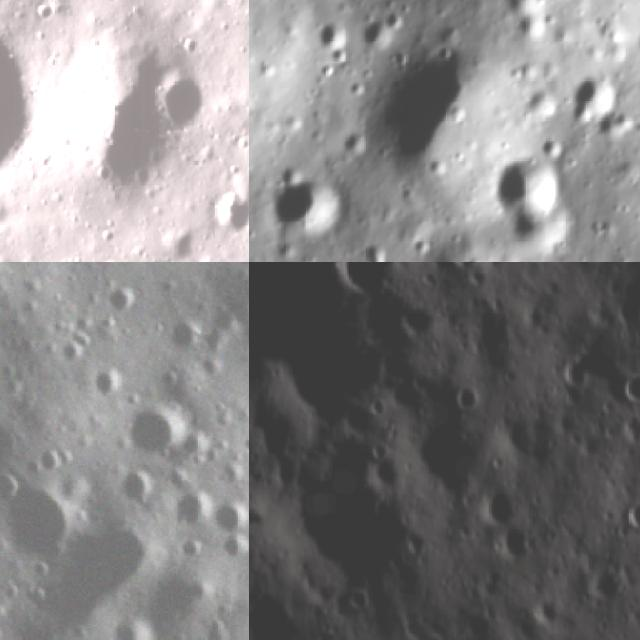crater: (277, 427, 408, 608), (32, 514, 171, 640), (360, 48, 496, 170), (86, 41, 178, 196), (0, 11, 51, 222), (0, 465, 83, 567), (489, 143, 570, 215), (271, 173, 351, 244), (118, 396, 194, 464), (151, 65, 215, 131), (511, 200, 582, 257), (568, 66, 620, 126), (550, 343, 604, 396), (485, 471, 532, 531), (323, 262, 402, 295), (395, 290, 442, 345), (174, 422, 221, 470), (443, 372, 492, 418), (366, 447, 408, 499), (499, 0, 550, 42), (84, 360, 132, 404), (99, 278, 144, 324), (355, 8, 399, 55), (164, 316, 211, 359), (215, 184, 249, 243), (30, 442, 79, 482), (50, 334, 96, 374), (597, 103, 639, 145), (104, 611, 158, 640), (157, 222, 196, 262), (211, 496, 249, 536), (0, 460, 32, 506), (316, 15, 355, 52), (213, 526, 249, 566), (612, 361, 640, 410), (174, 533, 208, 560), (361, 235, 394, 262), (618, 496, 640, 536), (30, 0, 59, 22), (0, 601, 13, 630), (449, 262, 486, 271), (239, 481, 249, 512)
